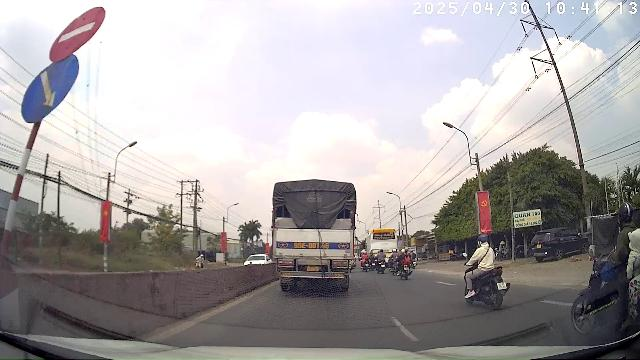102-cam-di-nguoc-chieu: (49, 5, 107, 59)
302a-huong-phai-di-vong-chuong-ngai-vat-1: (21, 56, 80, 123)
